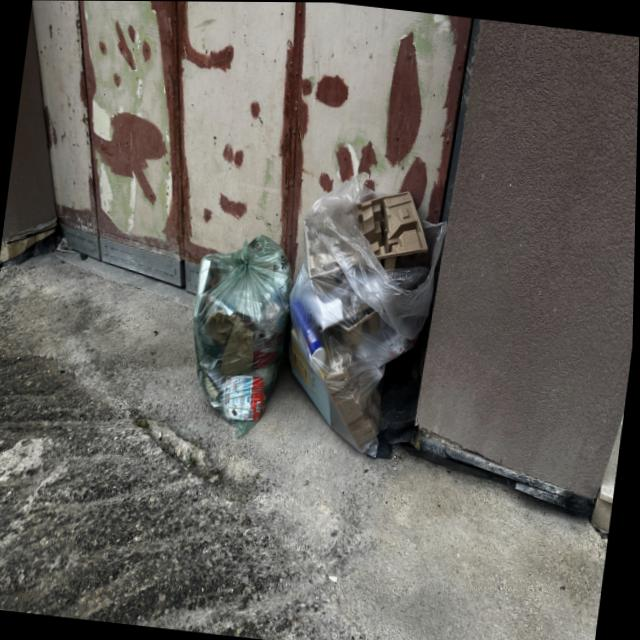Recyclable Material -Grey Bags-: (289, 177, 448, 458), (195, 232, 294, 437)
